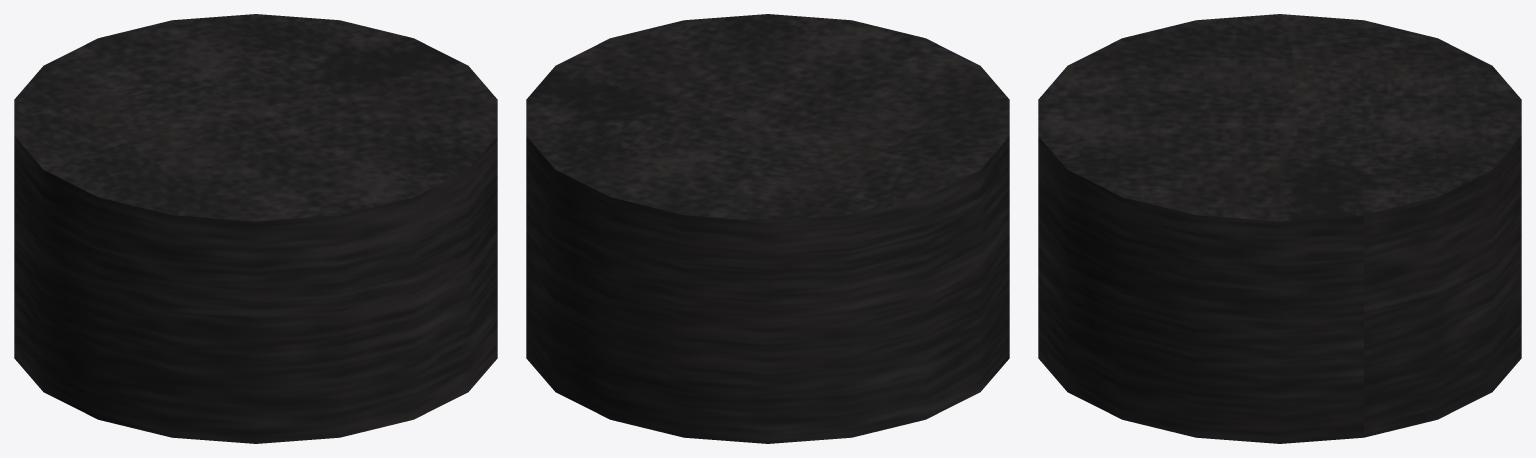
Rendered from carbonCylinder.obj.
The picture shows the model from 3 angles, left to right: view 1: azimuth 30°, elevation 25°; view 2: azimuth 150°, elevation 25°; view 3: azimuth 270°, elevation 25°; orthographic projection.
Visible parts, largest first — view 1: pCylinder15; view 2: pCylinder15; view 3: pCylinder15.
Boxes of the visible parts, x1,y1,x2,y2 form: pCylinder15: (14,14,497,443); pCylinder15: (526,14,1009,443); pCylinder15: (1038,14,1521,443).
Bounding box in the file's own units: 2 × 1 × 1.97.
1 material, 1 textured.
